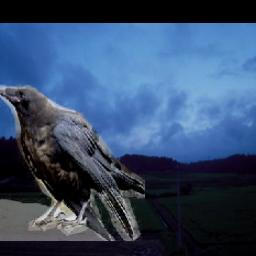Crow: (0, 86, 146, 242)
